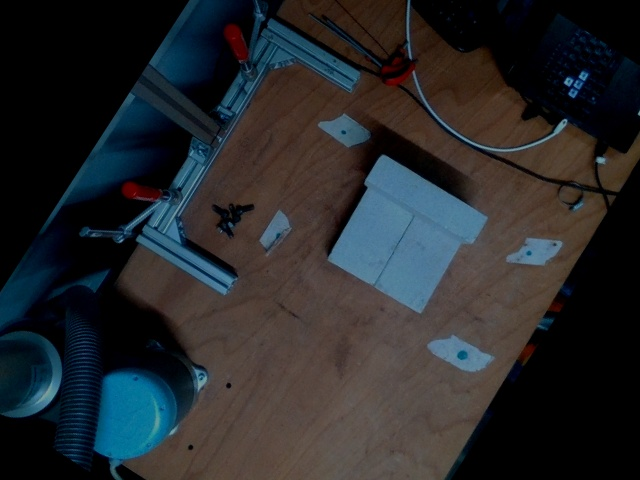brick-side: (367, 154, 488, 245)
